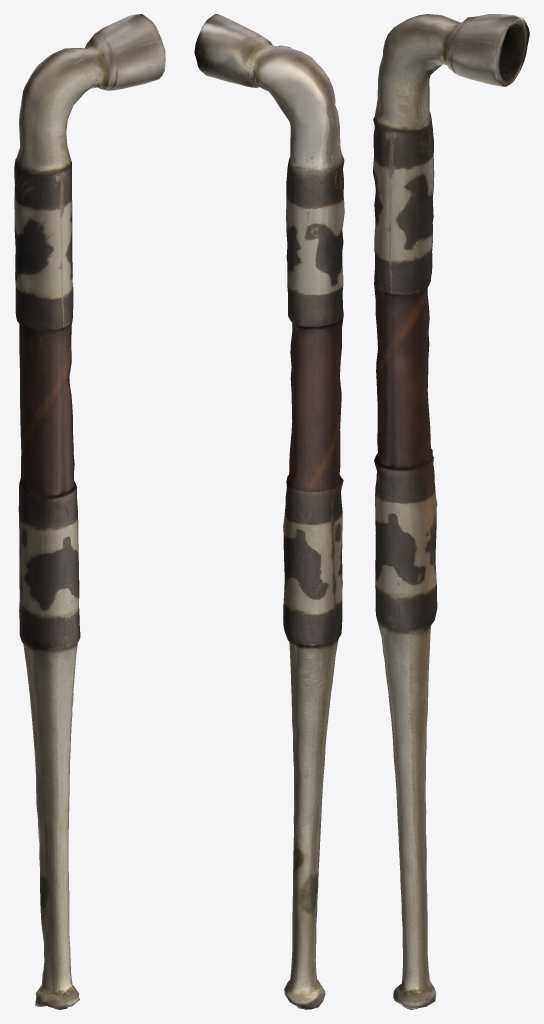
Rendered from SM_Smoking_Pipe.fbx.
The picture shows the model from 3 angles, left to right: view 1: azimuth 30°, elevation 25°; view 2: azimuth 150°, elevation 25°; view 3: azimuth 330°, elevation 25°; orthographic projection. The views are drawn at different scales.
Visible parts, largest first — view 1: KCDF_2022_prop_Smoking_Pipe_Mesh; view 2: KCDF_2022_prop_Smoking_Pipe_Mesh; view 3: KCDF_2022_prop_Smoking_Pipe_Mesh.
Part boxes in pixels (left/top/right/bottom): KCDF_2022_prop_Smoking_Pipe_Mesh: left=14, top=14, right=165, bottom=1009; KCDF_2022_prop_Smoking_Pipe_Mesh: left=194, top=14, right=344, bottom=1009; KCDF_2022_prop_Smoking_Pipe_Mesh: left=373, top=14, right=529, bottom=1009.
Bounding box in the file's own units: 4.85 × 33.86 × 2.18.
Materials: 1 (1 with a texture image).
